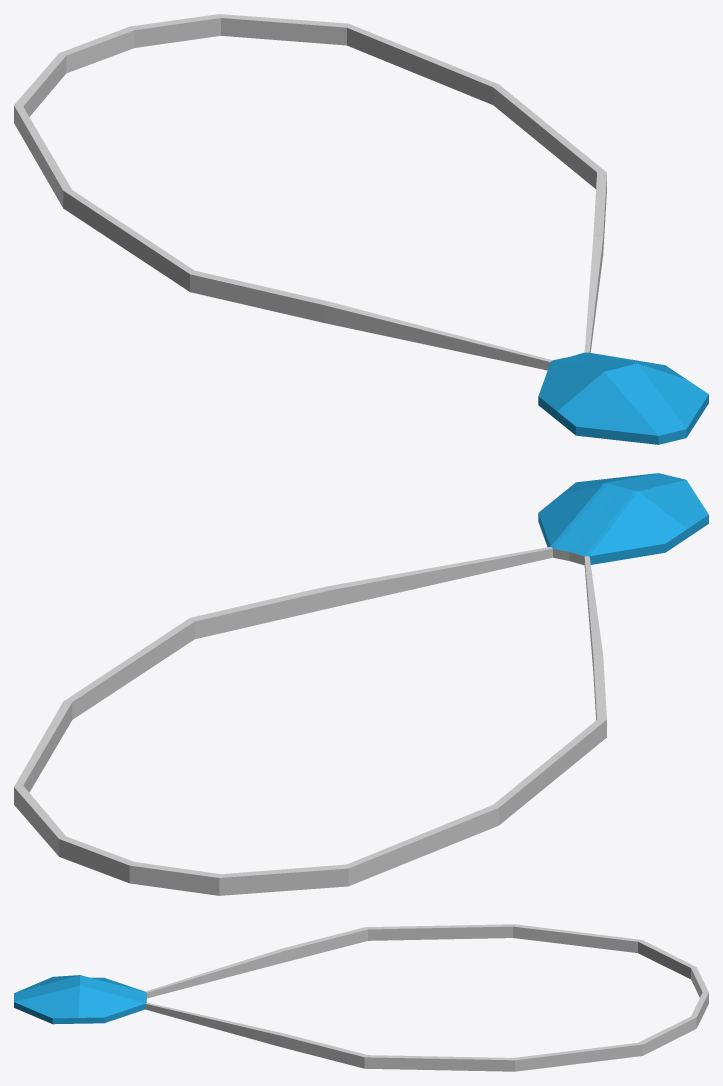
The model's file is amulet.fbx.
3 views of the same model, one above another, from view 1: azimuth 30°, elevation 25°; view 2: azimuth 150°, elevation 25°; view 3: azimuth 270°, elevation 25° (orthographic). The views are drawn at different scales.
Parts seen in each view (by area): view 1: MSH_Amulet; view 2: MSH_Amulet; view 3: MSH_Amulet.
Part boxes in pixels (box(x1,y1,x2,y2)): MSH_Amulet: box(14, 14, 708, 444); MSH_Amulet: box(14, 473, 708, 895); MSH_Amulet: box(14, 924, 708, 1071).
Bounding box in the file's own units: 247 × 19.8 × 533.
